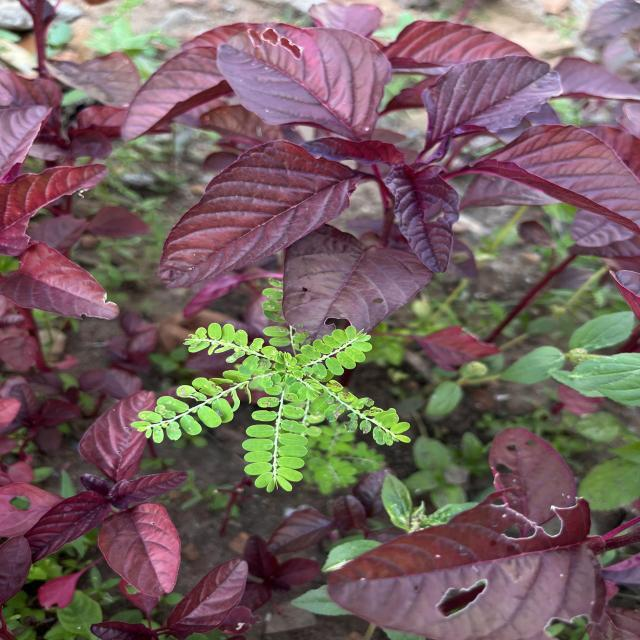Phyllanthus niruri: (296, 378, 411, 446), (240, 386, 310, 493), (130, 377, 235, 445), (180, 322, 279, 376), (294, 324, 374, 380)
